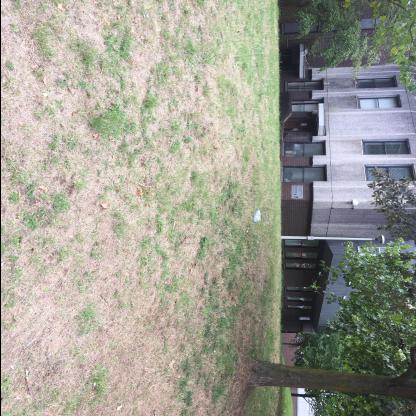plastik: (252, 208, 260, 222)
